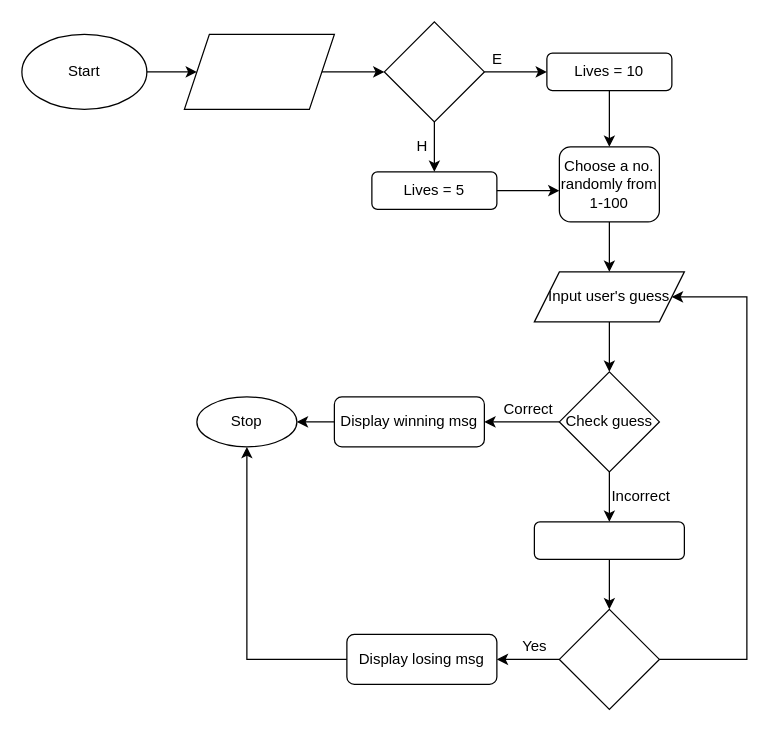
The diagram is 779 pixels wide and 731 high, and some of its shapes have lost their labels. Each missing label, with the centre of its shape:
Check H or E: the point at 433,71
If life = 0?: the point at 608,658
Input H or E: the point at 258,71
Reduce Life by 1: the point at 608,540
